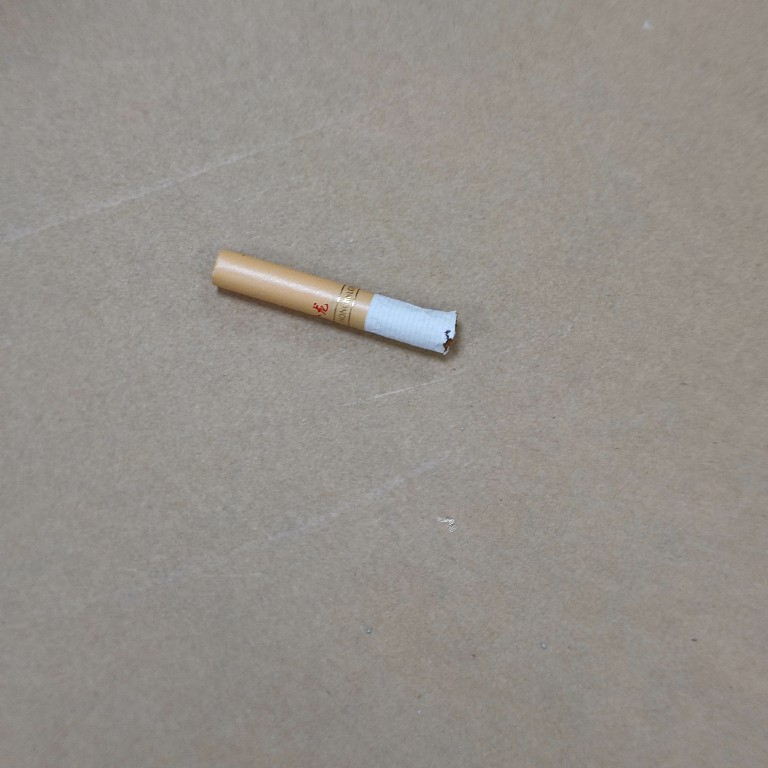cigarette: (203, 243, 462, 360)
